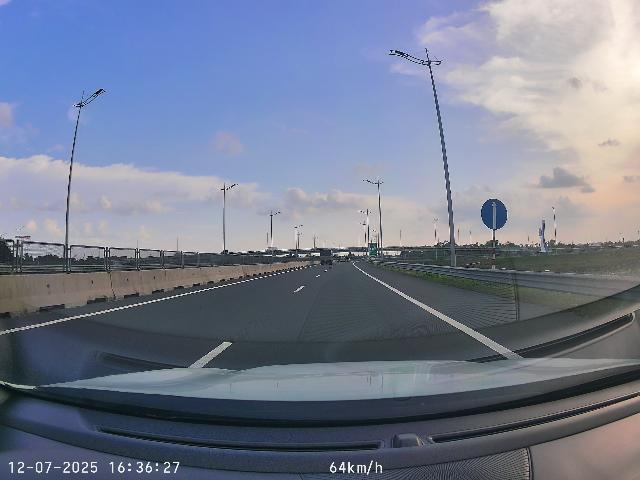301a-cac-xe-chi-duoc-di-thang: (480, 198, 508, 230)
